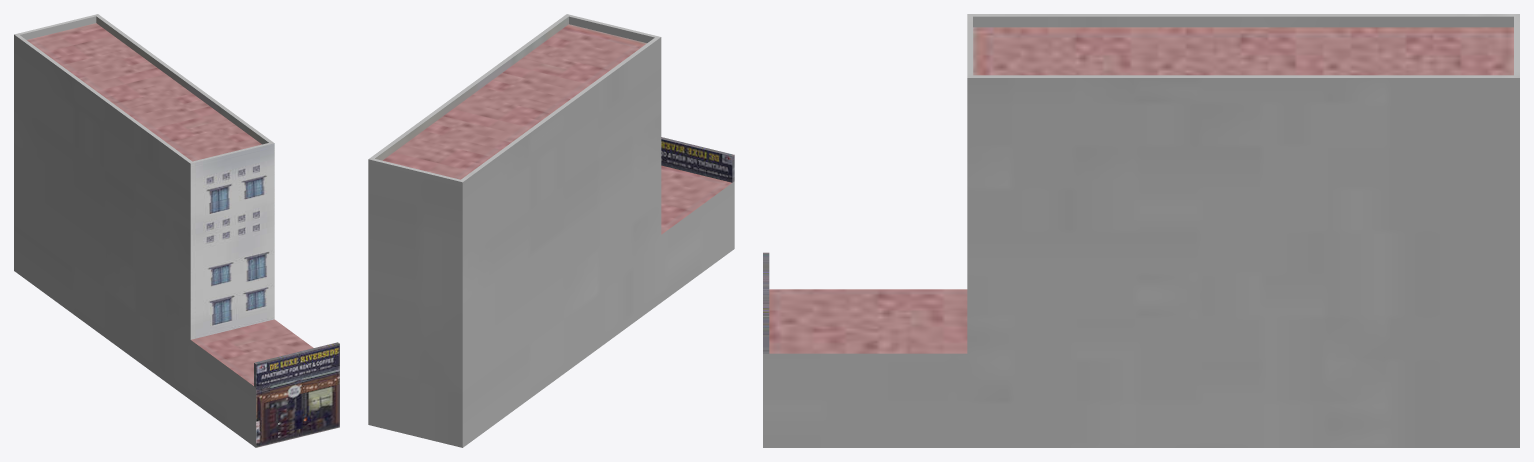
The picture shows the model from 3 angles, left to right: view 1: azimuth 30°, elevation 25°; view 2: azimuth 150°, elevation 25°; view 3: azimuth 270°, elevation 25°; orthographic projection. The views are drawn at different scales.
Visible parts, largest first — view 1: 5dad2c4793802723bce1ab63.001; view 2: 5dad2c4793802723bce1ab63.001; view 3: 5dad2c4793802723bce1ab63.001.
Boxes of the visible parts, bbox=[...] form: 5dad2c4793802723bce1ab63.001: bbox=[14, 14, 339, 447]; 5dad2c4793802723bce1ab63.001: bbox=[368, 14, 734, 447]; 5dad2c4793802723bce1ab63.001: bbox=[763, 14, 1519, 447].
Size of the model in its own units: 5.19 by 13.96 by 25.88.
Materials: 1 (1 with a texture image).
